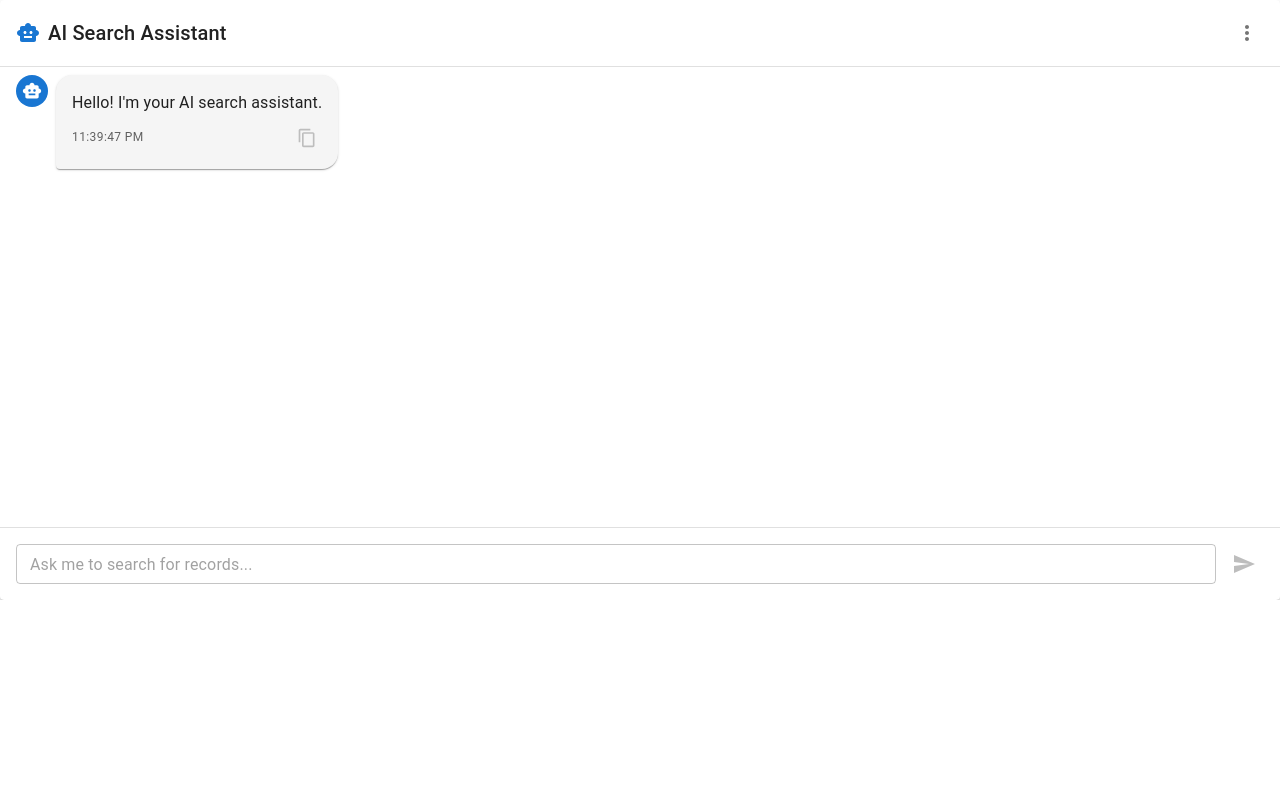
Test: AISearchChat › handles errors gracefully
Type "Test message" into the text box with placeholder "Ask me to search for records..." at (616, 564), box x1=30 y1=552 x2=1202 y2=576
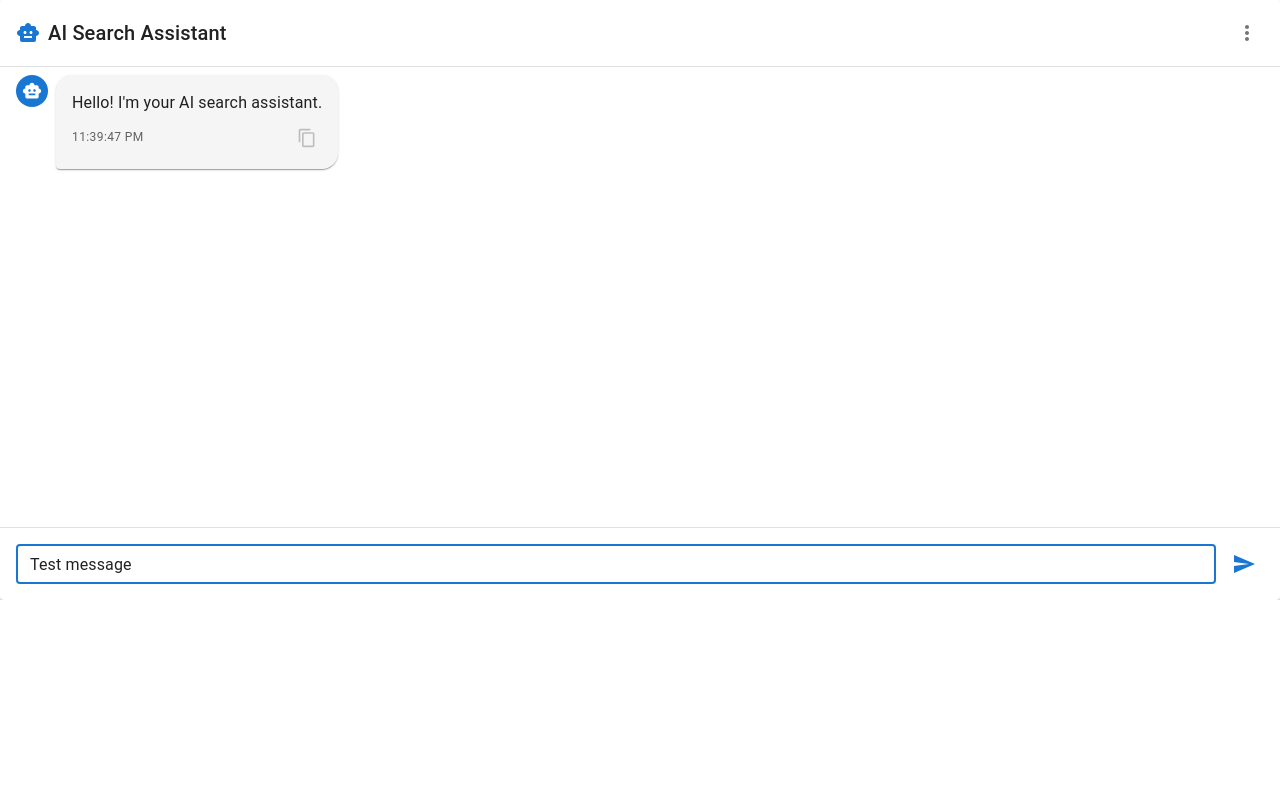
Click the button named "send" at (1244, 564), box x1=1224 y1=544 x2=1264 y2=584
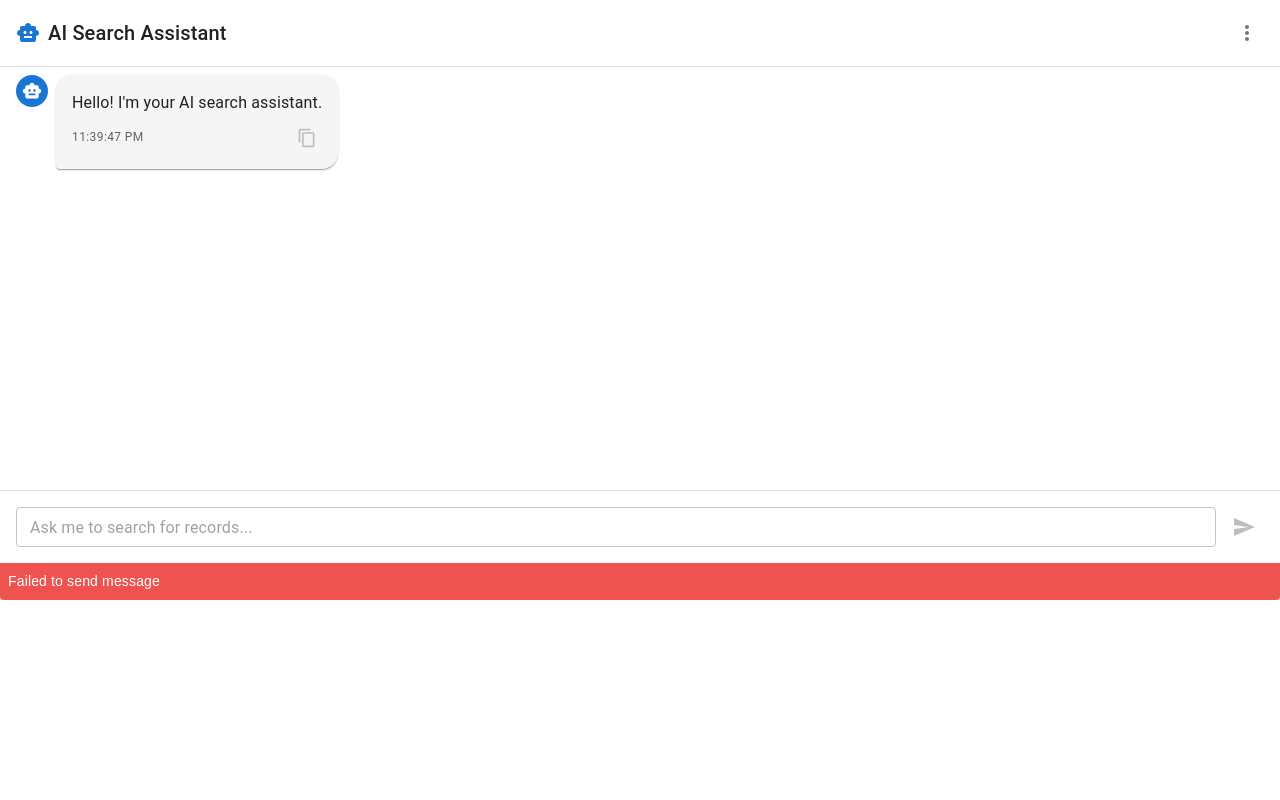
Expected: the text "Failed to send message" is shown, x1=0 y1=563 x2=1279 y2=600
